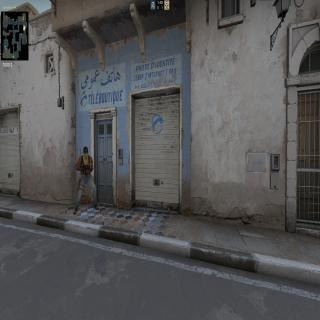T-Head: (83, 145, 89, 160)
